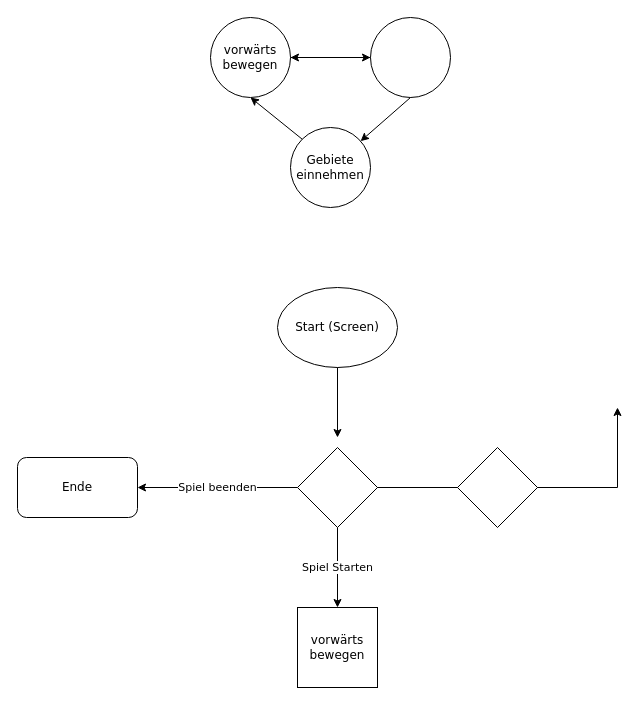
This 643x705 diagram has some shape labels left out. The centre of each missing label's shape, as x and y in pixels:
Gegner eliminieren: [410,57]
Haupmenu: [337,487]
Weltkarte: [497,487]
